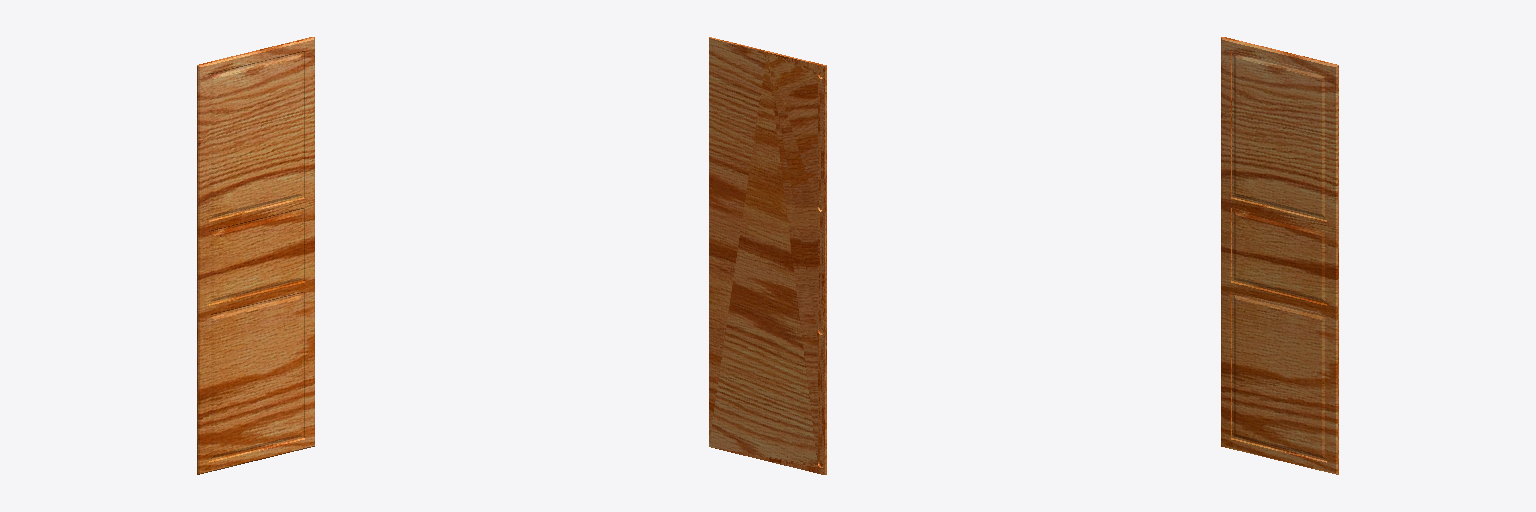
The picture shows the model from 3 angles: view 1: azimuth 30°, elevation 25°; view 2: azimuth 150°, elevation 25°; view 3: azimuth 330°, elevation 25°; orthographic projection.
Visible parts, largest first — view 1: model_model.025; view 2: model_model.025; view 3: model_model.025.
Boxes of the visible parts, x1=… form: model_model.025: x1=197, y1=37, x2=314, y2=474; model_model.025: x1=709, y1=37, x2=826, y2=474; model_model.025: x1=1221, y1=37, x2=1338, y2=474.
Bounding box in the file's own units: 0.597 × 2 × 0.018.
Materials: 1 (1 with a texture image).